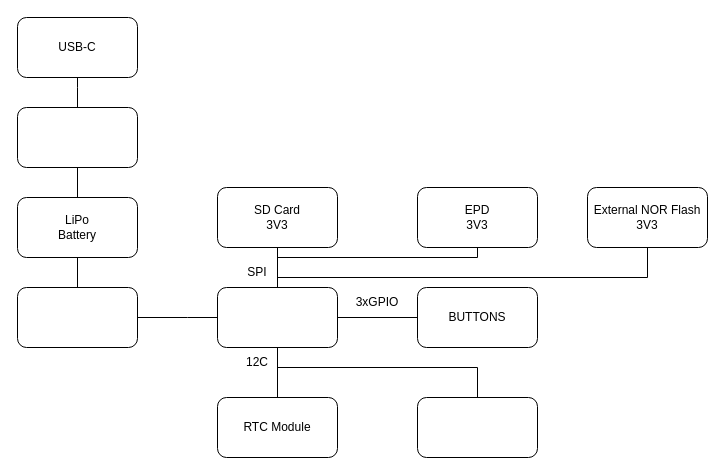
Image size: 725x475. Some labels were removed from this diagram. The centre of each missing label's shape, as x and y in pixels:
"3V3 LDO" goes at (77,317).
"ESP32-C6 3V3" goes at (277,317).
"Li-Po Battery Charging Controller" goes at (77,137).
"SENSOR BME688" goes at (477,427).
